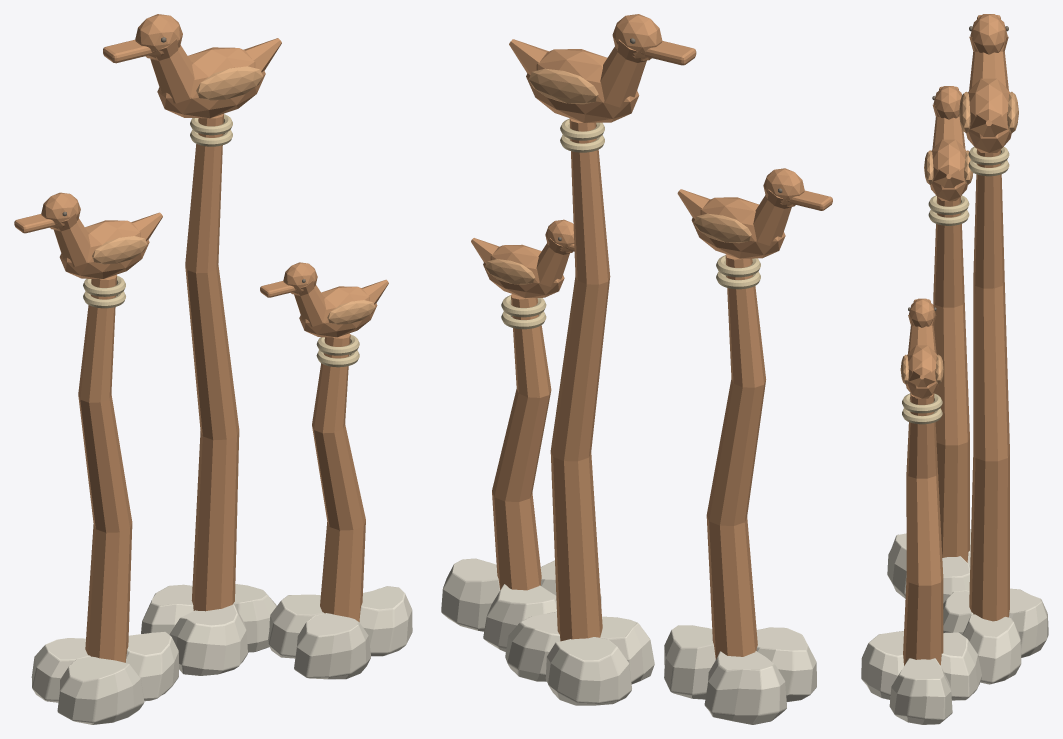
The model's file is Test_CheonRef_SotdaeGroup.fbx.
The picture shows the model from 3 angles, left to right: view 1: azimuth 30°, elevation 25°; view 2: azimuth 150°, elevation 25°; view 3: azimuth 270°, elevation 25°; orthographic projection. The views are drawn at different scales.
Parts seen in each view (by area): view 1: TaperedSotdaePole.002, TaperedSotdaePole.001, TaperedSotdaePole.003, GroundingSotdaeRock.005, GroundingSotdaeRock.008, GroundingSotdaeRock.011, WoodenDuckBody.002, GroundingSotdaeRock.009, GroundingSotdaeRock.003, GroundingSotdaeRock.010, GroundingSotdaeRock.004, WoodenDuckBody.001 (+14 smaller); view 2: TaperedSotdaePole.002, TaperedSotdaePole.001, TaperedSotdaePole.003, GroundingSotdaeRock.007, GroundingSotdaeRock.004, WoodenDuckBody.002, GroundingSotdaeRock.009, GroundingSotdaeRock.003, GroundingSotdaeRock.005, GroundingSotdaeRock.006, GroundingSotdaeRock.010, WoodenDuckBody.001 (+13 smaller); view 3: TaperedSotdaePole.002, TaperedSotdaePole.001, TaperedSotdaePole.003, GroundingSotdaeRock.009, GroundingSotdaeRock.006, GroundingSotdaeRock.011, GroundingSotdaeRock.010, WoodenDuckBody.002, GroundingSotdaeRock.007, WoodenDuckBody.001, WoodenDuckNeck.002, WoodenDuckHead.002 (+19 smaller).
Boxes of the visible parts, x1,y1,x2,y2 form: TaperedSotdaePole.002: [185, 113, 239, 611]; TaperedSotdaePole.001: [78, 275, 132, 662]; TaperedSotdaePole.003: [312, 333, 365, 622]; GroundingSotdaeRock.005: [57, 656, 144, 724]; GroundingSotdaeRock.008: [169, 604, 247, 675]; GroundingSotdaeRock.011: [294, 613, 370, 679]; WoodenDuckBody.002: [157, 47, 265, 118]; GroundingSotdaeRock.009: [359, 586, 412, 656]; GroundingSotdaeRock.003: [125, 631, 178, 701]; GroundingSotdaeRock.010: [268, 594, 324, 658]; GroundingSotdaeRock.004: [31, 638, 90, 702]; WoodenDuckBody.001: [59, 220, 149, 278]; TaperedSotdaePole.002: [550, 118, 610, 641]; TaperedSotdaePole.001: [706, 254, 766, 659]; TaperedSotdaePole.003: [492, 294, 551, 590]; GroundingSotdaeRock.007: [545, 637, 631, 705]; GroundingSotdaeRock.004: [704, 651, 786, 724]; WoodenDuckBody.002: [526, 49, 639, 122]; GroundingSotdaeRock.009: [441, 558, 499, 631]; GroundingSotdaeRock.003: [664, 625, 715, 699]; GroundingSotdaeRock.005: [756, 627, 816, 701]; GroundingSotdaeRock.006: [505, 611, 560, 681]; GroundingSotdaeRock.010: [483, 584, 556, 652]; WoodenDuckBody.001: [691, 197, 785, 258]; TaperedSotdaePole.002: [969, 149, 1009, 621]; TaperedSotdaePole.001: [933, 196, 969, 562]; TaperedSotdaePole.003: [903, 393, 943, 665]; GroundingSotdaeRock.009: [889, 658, 952, 724]; GroundingSotdaeRock.006: [962, 614, 1021, 684]; GroundingSotdaeRock.011: [861, 631, 903, 699]; GroundingSotdaeRock.010: [940, 632, 981, 700]; WoodenDuckBody.002: [966, 78, 1011, 152]; GroundingSotdaeRock.007: [1009, 588, 1048, 657]; WoodenDuckBody.001: [930, 139, 967, 201]; WoodenDuckNeck.002: [969, 36, 1008, 90]; WoodenDuckHead.002: [970, 14, 1007, 54].
Size of the model in its own units: 309 by 508 by 141.
